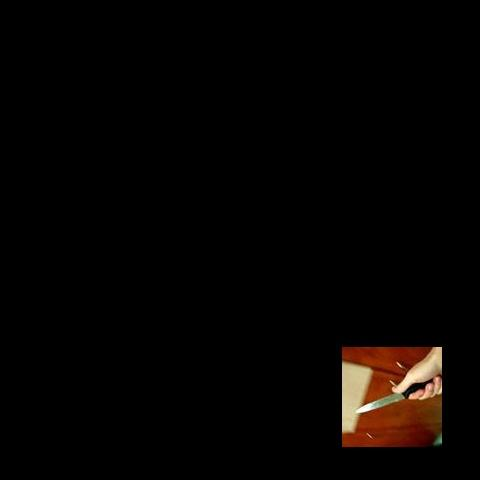knife: (355, 379, 434, 414)
